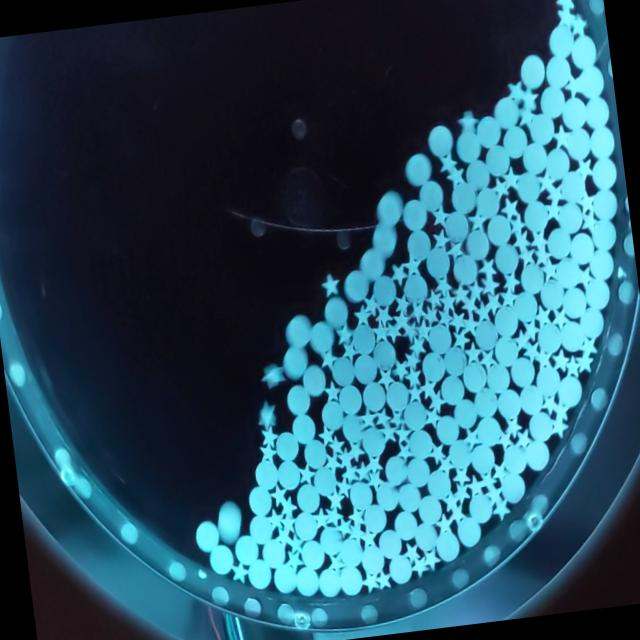disco blanco: (516, 50, 548, 90), (281, 312, 314, 349), (402, 150, 434, 187), (390, 506, 421, 542), (498, 468, 527, 506), (498, 124, 530, 158), (280, 344, 312, 378), (554, 374, 586, 408), (453, 128, 484, 163), (374, 190, 404, 226), (370, 222, 400, 258), (524, 436, 552, 474), (546, 23, 576, 58), (542, 54, 572, 89), (576, 62, 606, 97), (569, 34, 598, 70), (590, 216, 619, 252), (283, 379, 312, 415), (499, 440, 528, 476), (522, 198, 550, 235), (412, 514, 440, 551), (474, 414, 504, 448), (376, 526, 406, 560), (372, 478, 402, 512), (293, 480, 323, 514), (298, 537, 328, 571), (559, 95, 588, 130), (492, 332, 521, 367), (584, 275, 612, 311), (494, 386, 522, 422), (558, 317, 586, 353), (394, 478, 422, 514), (510, 289, 540, 322), (568, 228, 594, 266), (400, 197, 429, 231), (423, 245, 452, 279), (336, 534, 365, 568), (508, 354, 536, 389), (338, 562, 366, 597), (315, 565, 343, 600), (538, 84, 565, 120), (442, 208, 469, 244), (526, 410, 556, 442), (300, 437, 330, 469), (291, 509, 321, 541), (449, 180, 478, 213), (483, 212, 512, 245), (587, 247, 616, 280), (588, 125, 616, 159), (426, 122, 454, 156), (545, 226, 573, 260), (404, 228, 432, 262), (472, 317, 500, 351), (446, 436, 474, 470), (454, 514, 482, 548), (466, 492, 494, 526), (346, 478, 374, 512), (273, 428, 301, 462), (359, 377, 386, 412), (362, 499, 389, 534), (476, 112, 502, 148), (307, 317, 333, 353), (369, 274, 398, 306), (414, 492, 443, 524), (584, 95, 612, 128), (520, 142, 548, 175), (484, 144, 512, 177), (464, 157, 492, 190), (416, 179, 444, 212), (591, 187, 619, 220), (382, 378, 410, 411), (560, 169, 587, 203), (342, 268, 369, 302), (406, 426, 433, 460), (358, 542, 385, 576), (312, 464, 339, 498), (300, 362, 326, 397), (468, 442, 497, 473), (590, 156, 618, 188), (514, 170, 542, 202), (560, 288, 588, 320), (518, 262, 546, 294), (451, 253, 479, 285), (464, 228, 492, 260), (322, 294, 350, 326), (484, 362, 512, 394), (534, 320, 562, 352), (494, 241, 521, 274), (518, 383, 545, 416), (566, 126, 592, 160), (556, 201, 582, 235), (555, 255, 581, 289), (358, 247, 384, 281), (381, 452, 407, 486), (440, 345, 468, 376), (424, 468, 452, 499), (386, 552, 413, 584), (539, 278, 565, 311), (452, 396, 478, 429), (543, 148, 571, 178), (534, 366, 562, 396), (528, 113, 554, 145), (290, 412, 316, 444), (420, 351, 446, 383), (426, 322, 452, 354), (461, 360, 487, 392), (580, 306, 606, 338), (318, 524, 344, 556), (474, 386, 498, 419), (434, 413, 458, 446), (494, 304, 518, 337), (352, 354, 378, 384), (402, 400, 428, 430), (434, 530, 460, 560), (493, 97, 518, 128), (351, 324, 376, 354), (371, 338, 396, 368), (361, 426, 386, 456), (337, 383, 361, 414), (318, 399, 343, 428), (340, 412, 364, 442), (407, 456, 429, 487)
estrella blanca: (259, 360, 284, 391), (386, 258, 411, 288), (318, 269, 342, 300), (567, 9, 590, 40), (255, 398, 278, 429), (255, 422, 282, 448), (539, 255, 563, 284), (475, 252, 498, 282), (339, 334, 362, 364), (351, 298, 373, 329), (498, 194, 522, 222), (573, 154, 597, 182), (456, 110, 480, 137), (436, 148, 459, 176), (332, 318, 354, 347), (549, 344, 570, 374), (510, 228, 534, 254), (478, 272, 504, 296), (504, 79, 528, 105), (429, 225, 452, 252), (482, 290, 504, 318), (489, 173, 511, 201), (551, 122, 573, 150), (399, 346, 423, 371), (578, 209, 602, 234), (491, 496, 514, 522), (278, 493, 300, 520), (548, 415, 572, 439), (421, 405, 444, 430), (543, 183, 566, 208), (316, 346, 338, 372), (358, 406, 380, 432), (509, 328, 531, 354), (574, 350, 596, 376), (574, 189, 596, 215), (519, 86, 541, 112), (228, 560, 250, 586), (428, 202, 449, 229), (550, 304, 571, 331), (471, 298, 491, 326), (462, 422, 482, 450), (427, 436, 447, 464), (346, 436, 366, 464), (501, 164, 521, 192), (564, 72, 584, 100), (269, 480, 289, 508), (325, 550, 348, 574), (466, 208, 488, 233), (578, 333, 600, 358), (364, 466, 386, 491), (516, 244, 538, 269), (402, 364, 423, 390), (358, 524, 379, 550), (529, 226, 550, 252), (408, 297, 428, 324), (532, 302, 552, 329), (502, 414, 524, 438), (482, 481, 504, 505), (282, 548, 304, 572), (538, 392, 560, 416), (444, 165, 466, 189), (516, 104, 538, 128), (441, 488, 462, 513), (402, 252, 422, 278), (376, 365, 396, 391), (327, 432, 347, 458), (360, 568, 380, 594), (296, 462, 316, 488), (370, 317, 389, 344), (323, 448, 342, 475), (393, 421, 415, 444), (450, 328, 471, 352), (462, 340, 483, 364), (422, 544, 440, 572), (341, 459, 362, 483), (256, 443, 280, 464), (322, 379, 342, 404), (520, 317, 540, 342), (552, 8, 577, 28), (375, 566, 394, 592), (390, 292, 410, 316), (418, 376, 438, 400), (478, 348, 498, 372), (520, 338, 540, 362), (326, 487, 346, 511), (324, 505, 344, 529), (574, 266, 594, 290), (532, 245, 552, 269), (542, 200, 562, 224), (536, 170, 556, 194), (460, 290, 478, 316), (449, 306, 467, 332), (496, 426, 514, 452), (479, 466, 497, 492), (451, 464, 472, 486), (432, 273, 452, 296), (414, 319, 434, 342), (427, 390, 447, 413), (378, 421, 398, 444), (512, 426, 532, 449), (452, 481, 472, 504), (288, 532, 308, 555), (451, 282, 470, 306), (466, 278, 485, 302), (384, 318, 403, 342), (409, 554, 428, 578), (318, 422, 337, 446), (338, 444, 357, 468), (347, 504, 366, 528), (400, 318, 418, 343), (424, 300, 441, 326), (391, 356, 408, 382), (446, 238, 466, 260), (498, 287, 518, 309), (501, 270, 521, 292), (436, 453, 456, 475), (552, 400, 572, 422), (462, 313, 480, 337), (438, 290, 456, 314), (491, 460, 509, 484), (356, 457, 374, 481), (335, 475, 353, 499), (266, 506, 284, 530), (467, 472, 484, 497), (405, 382, 425, 403), (386, 407, 406, 428), (400, 542, 420, 563), (373, 304, 392, 326), (448, 502, 467, 524), (374, 406, 392, 429), (396, 441, 414, 464), (366, 451, 384, 474), (274, 525, 292, 548), (425, 286, 442, 310), (564, 353, 580, 378), (407, 337, 428, 356), (534, 346, 552, 368), (435, 513, 453, 535), (278, 513, 296, 535), (362, 292, 378, 316), (436, 304, 452, 328), (336, 517, 354, 538), (393, 309, 411, 329), (553, 0, 575, 14)
